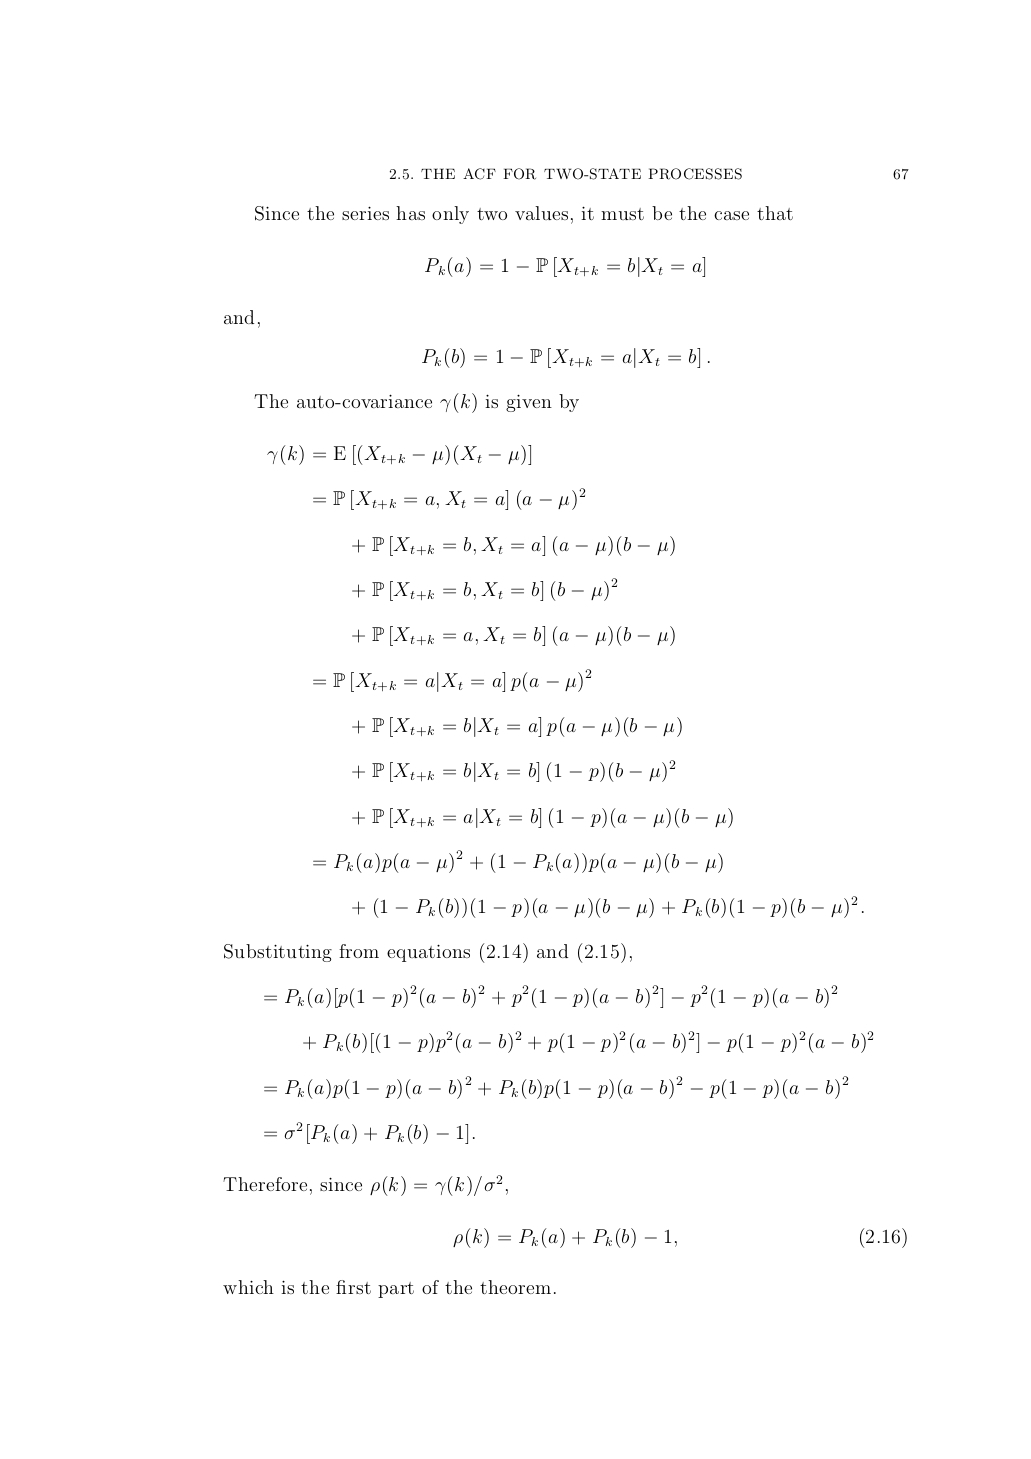formula: (264, 984, 837, 1008), (264, 1075, 848, 1099), (303, 1030, 873, 1053), (351, 895, 863, 918), (314, 849, 722, 873), (453, 1227, 906, 1248), (351, 806, 732, 828), (351, 759, 675, 782), (351, 715, 681, 737), (351, 625, 674, 646), (351, 577, 617, 601), (314, 668, 591, 692), (351, 535, 674, 555), (422, 347, 709, 368), (314, 487, 585, 510), (425, 255, 705, 277), (267, 444, 531, 465), (264, 1121, 474, 1144)
